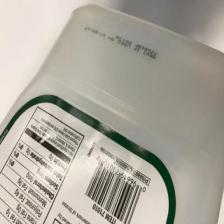plastic: (0, 2, 224, 223)
